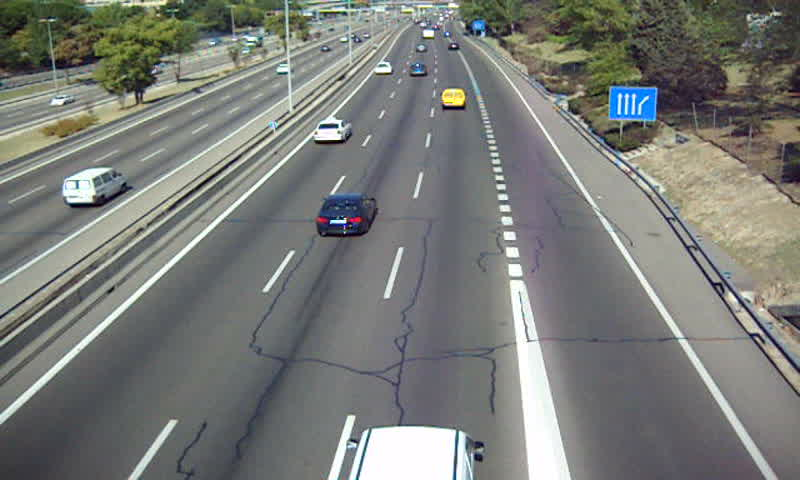car: (316, 194, 379, 237), (312, 119, 352, 142), (408, 62, 428, 78), (373, 62, 392, 76)
van: (441, 88, 466, 110)
